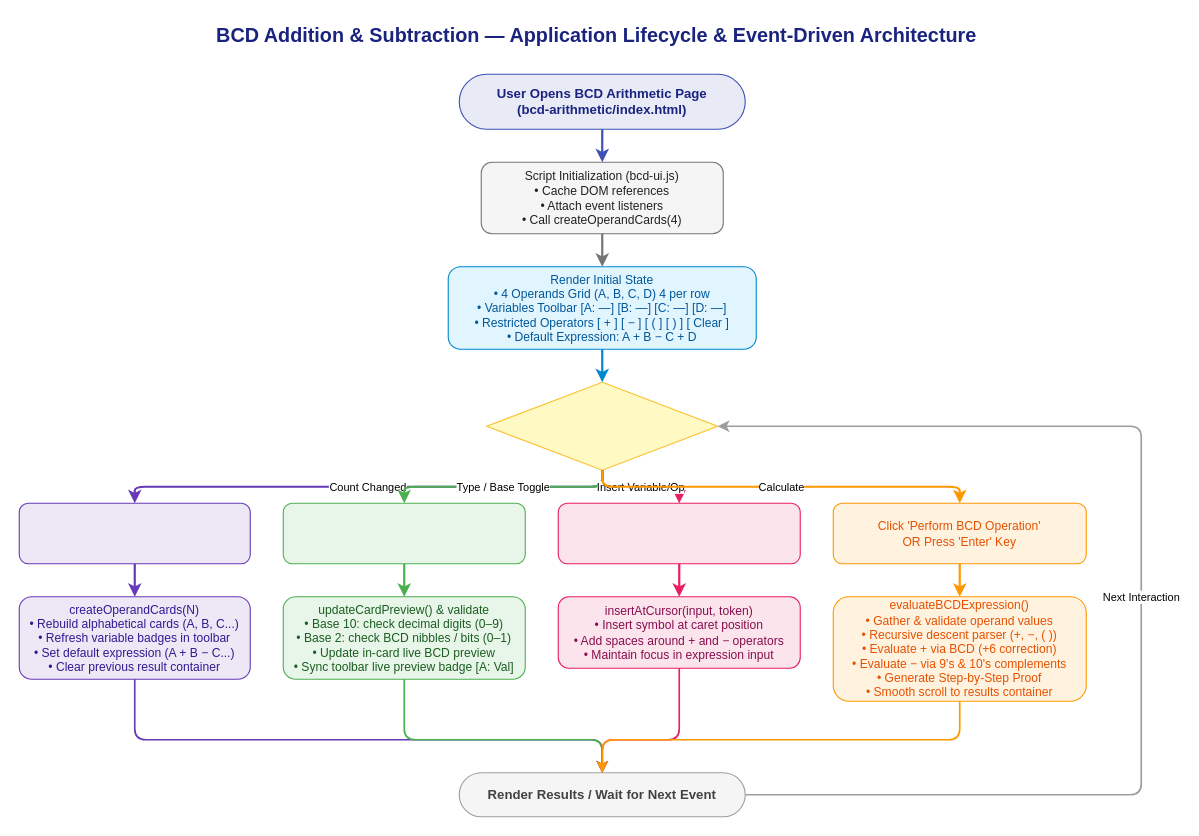
This 1199x836 diagram has some shape labels left out. The box of each missing label's shape, as (x1, y1, x2, y2) in pixels:
Change Input Count (2–10) & Click 'Set Inputs': (18, 502, 250, 564)
Click Toolbar Button (Variable A-J or Operator + / − / ( / )): (557, 502, 800, 564)
Type Operand String OR Toggle Radix (10 Dec / 2 Bin): (282, 502, 525, 564)
User Action / Event Loop: (486, 381, 718, 470)
